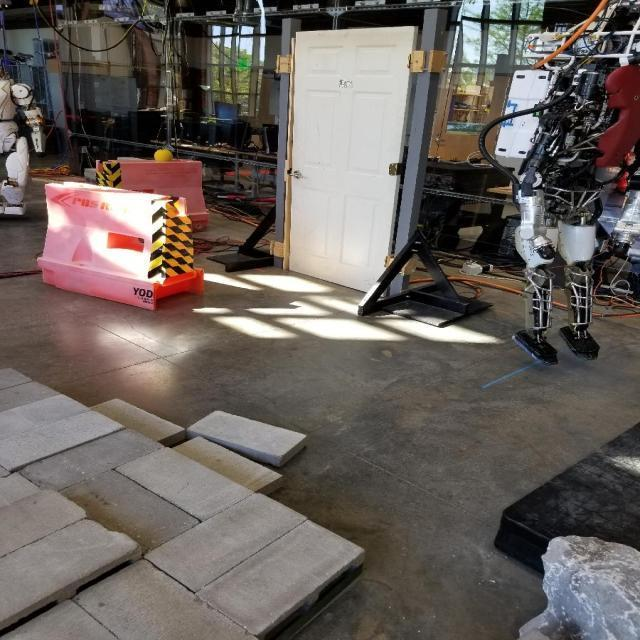door: (286, 23, 419, 294), (288, 168, 306, 180)
